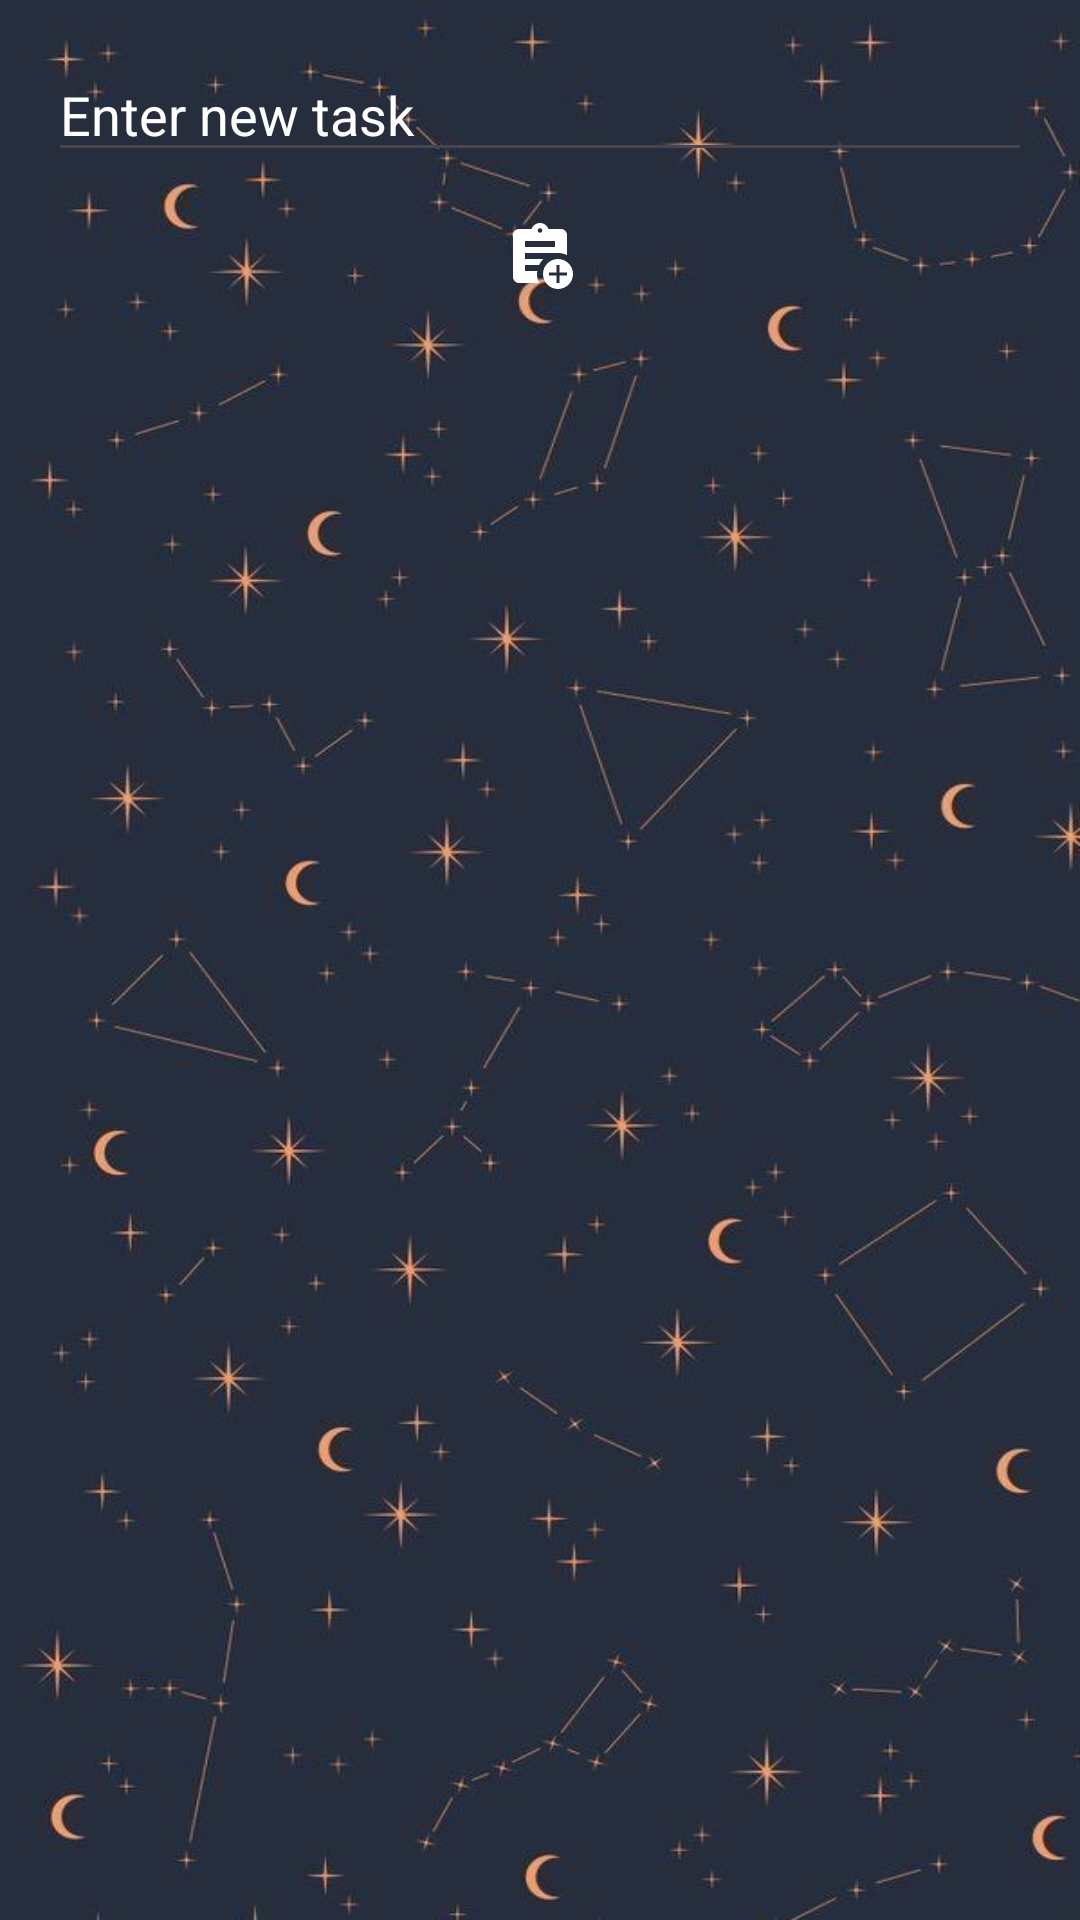

Named icons in this screenshot (1080x1920) and their centers, (x=x, y=y):
Add Subtask: (x=539, y=256)
